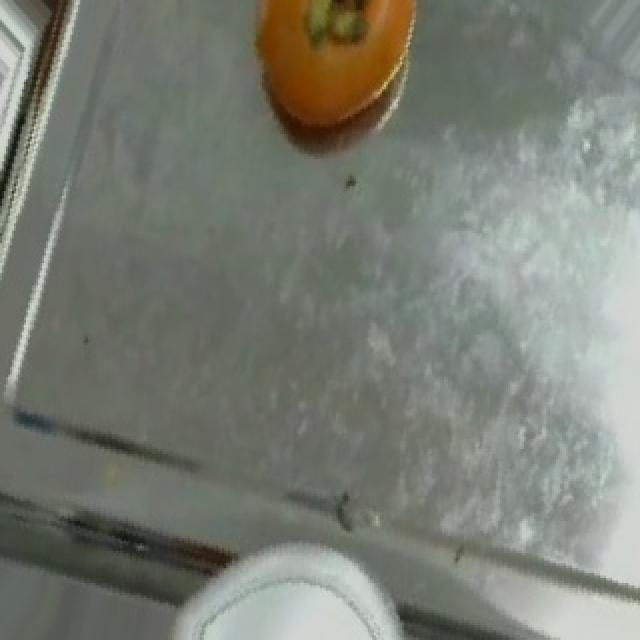Fruit: (228, 2, 444, 156), (184, 568, 398, 638)
